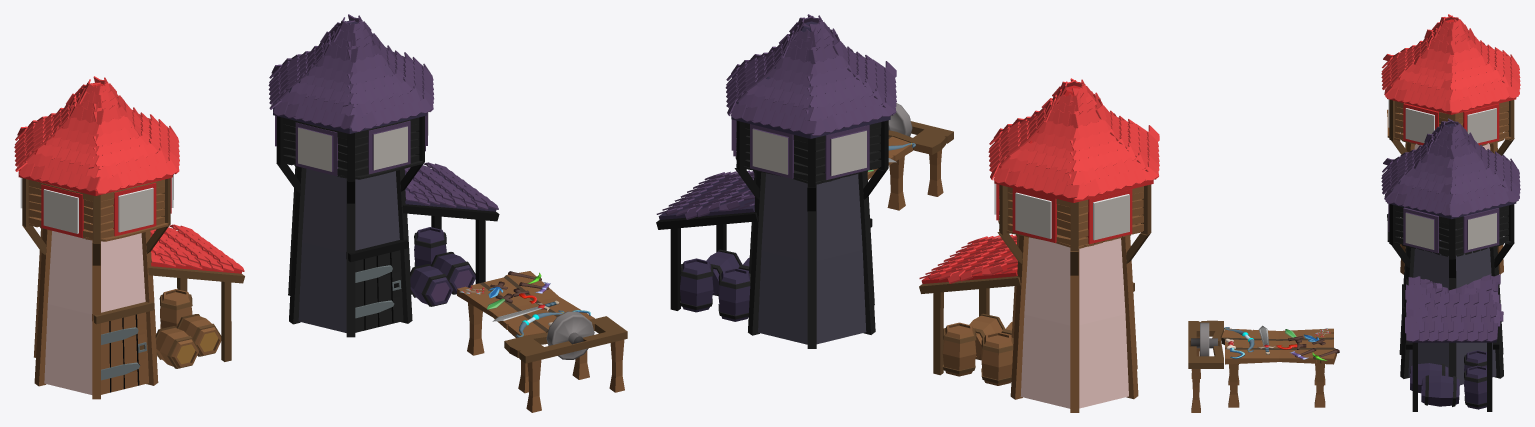
File: TwinTowers.fbx
3 views of the same model, side by side, from view 1: azimuth 30°, elevation 25°; view 2: azimuth 150°, elevation 25°; view 3: azimuth 270°, elevation 25° (orthographic). The views are drawn at different scales.
Parts seen in each view (by area): view 1: HumanKale, NecroKale, CraftTable, HumanPencere, NecroPencere, HumanCerceve, NecroCerceve; view 2: NecroKale, HumanKale, CraftTable, HumanPencere, NecroPencere, HumanCerceve, NecroCerceve; view 3: NecroKale, HumanKale, CraftTable, NecroPencere, HumanPencere, NecroCerceve, HumanCerceve.
Boxes of the visible parts, box(x1,y1,x2,y2) form: HumanKale: box(14, 76, 244, 399); NecroKale: box(268, 14, 499, 337); CraftTable: box(457, 271, 627, 412); HumanPencere: box(20, 174, 173, 233); NecroPencere: box(275, 112, 428, 171); HumanCerceve: box(41, 178, 171, 238); NecroCerceve: box(295, 116, 425, 175); NecroKale: box(656, 14, 896, 348); HumanKale: box(919, 78, 1159, 412); CraftTable: box(867, 103, 953, 210); HumanPencere: box(994, 183, 1129, 240); NecroPencere: box(731, 119, 866, 175); HumanCerceve: box(996, 184, 1132, 244); NecroCerceve: box(733, 120, 869, 179); NecroKale: box(1381, 118, 1520, 411); HumanKale: box(1381, 14, 1520, 274); CraftTable: box(1188, 320, 1339, 412); NecroPencere: box(1388, 203, 1496, 249); HumanPencere: box(1388, 99, 1496, 143); NecroCerceve: box(1403, 207, 1499, 253); HumanCerceve: box(1403, 103, 1499, 145).
Size of the model in its own units: 37.6 by 22.7 by 28.01.
